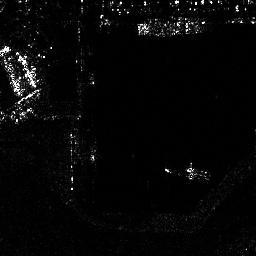ship: (136, 20, 203, 38)
